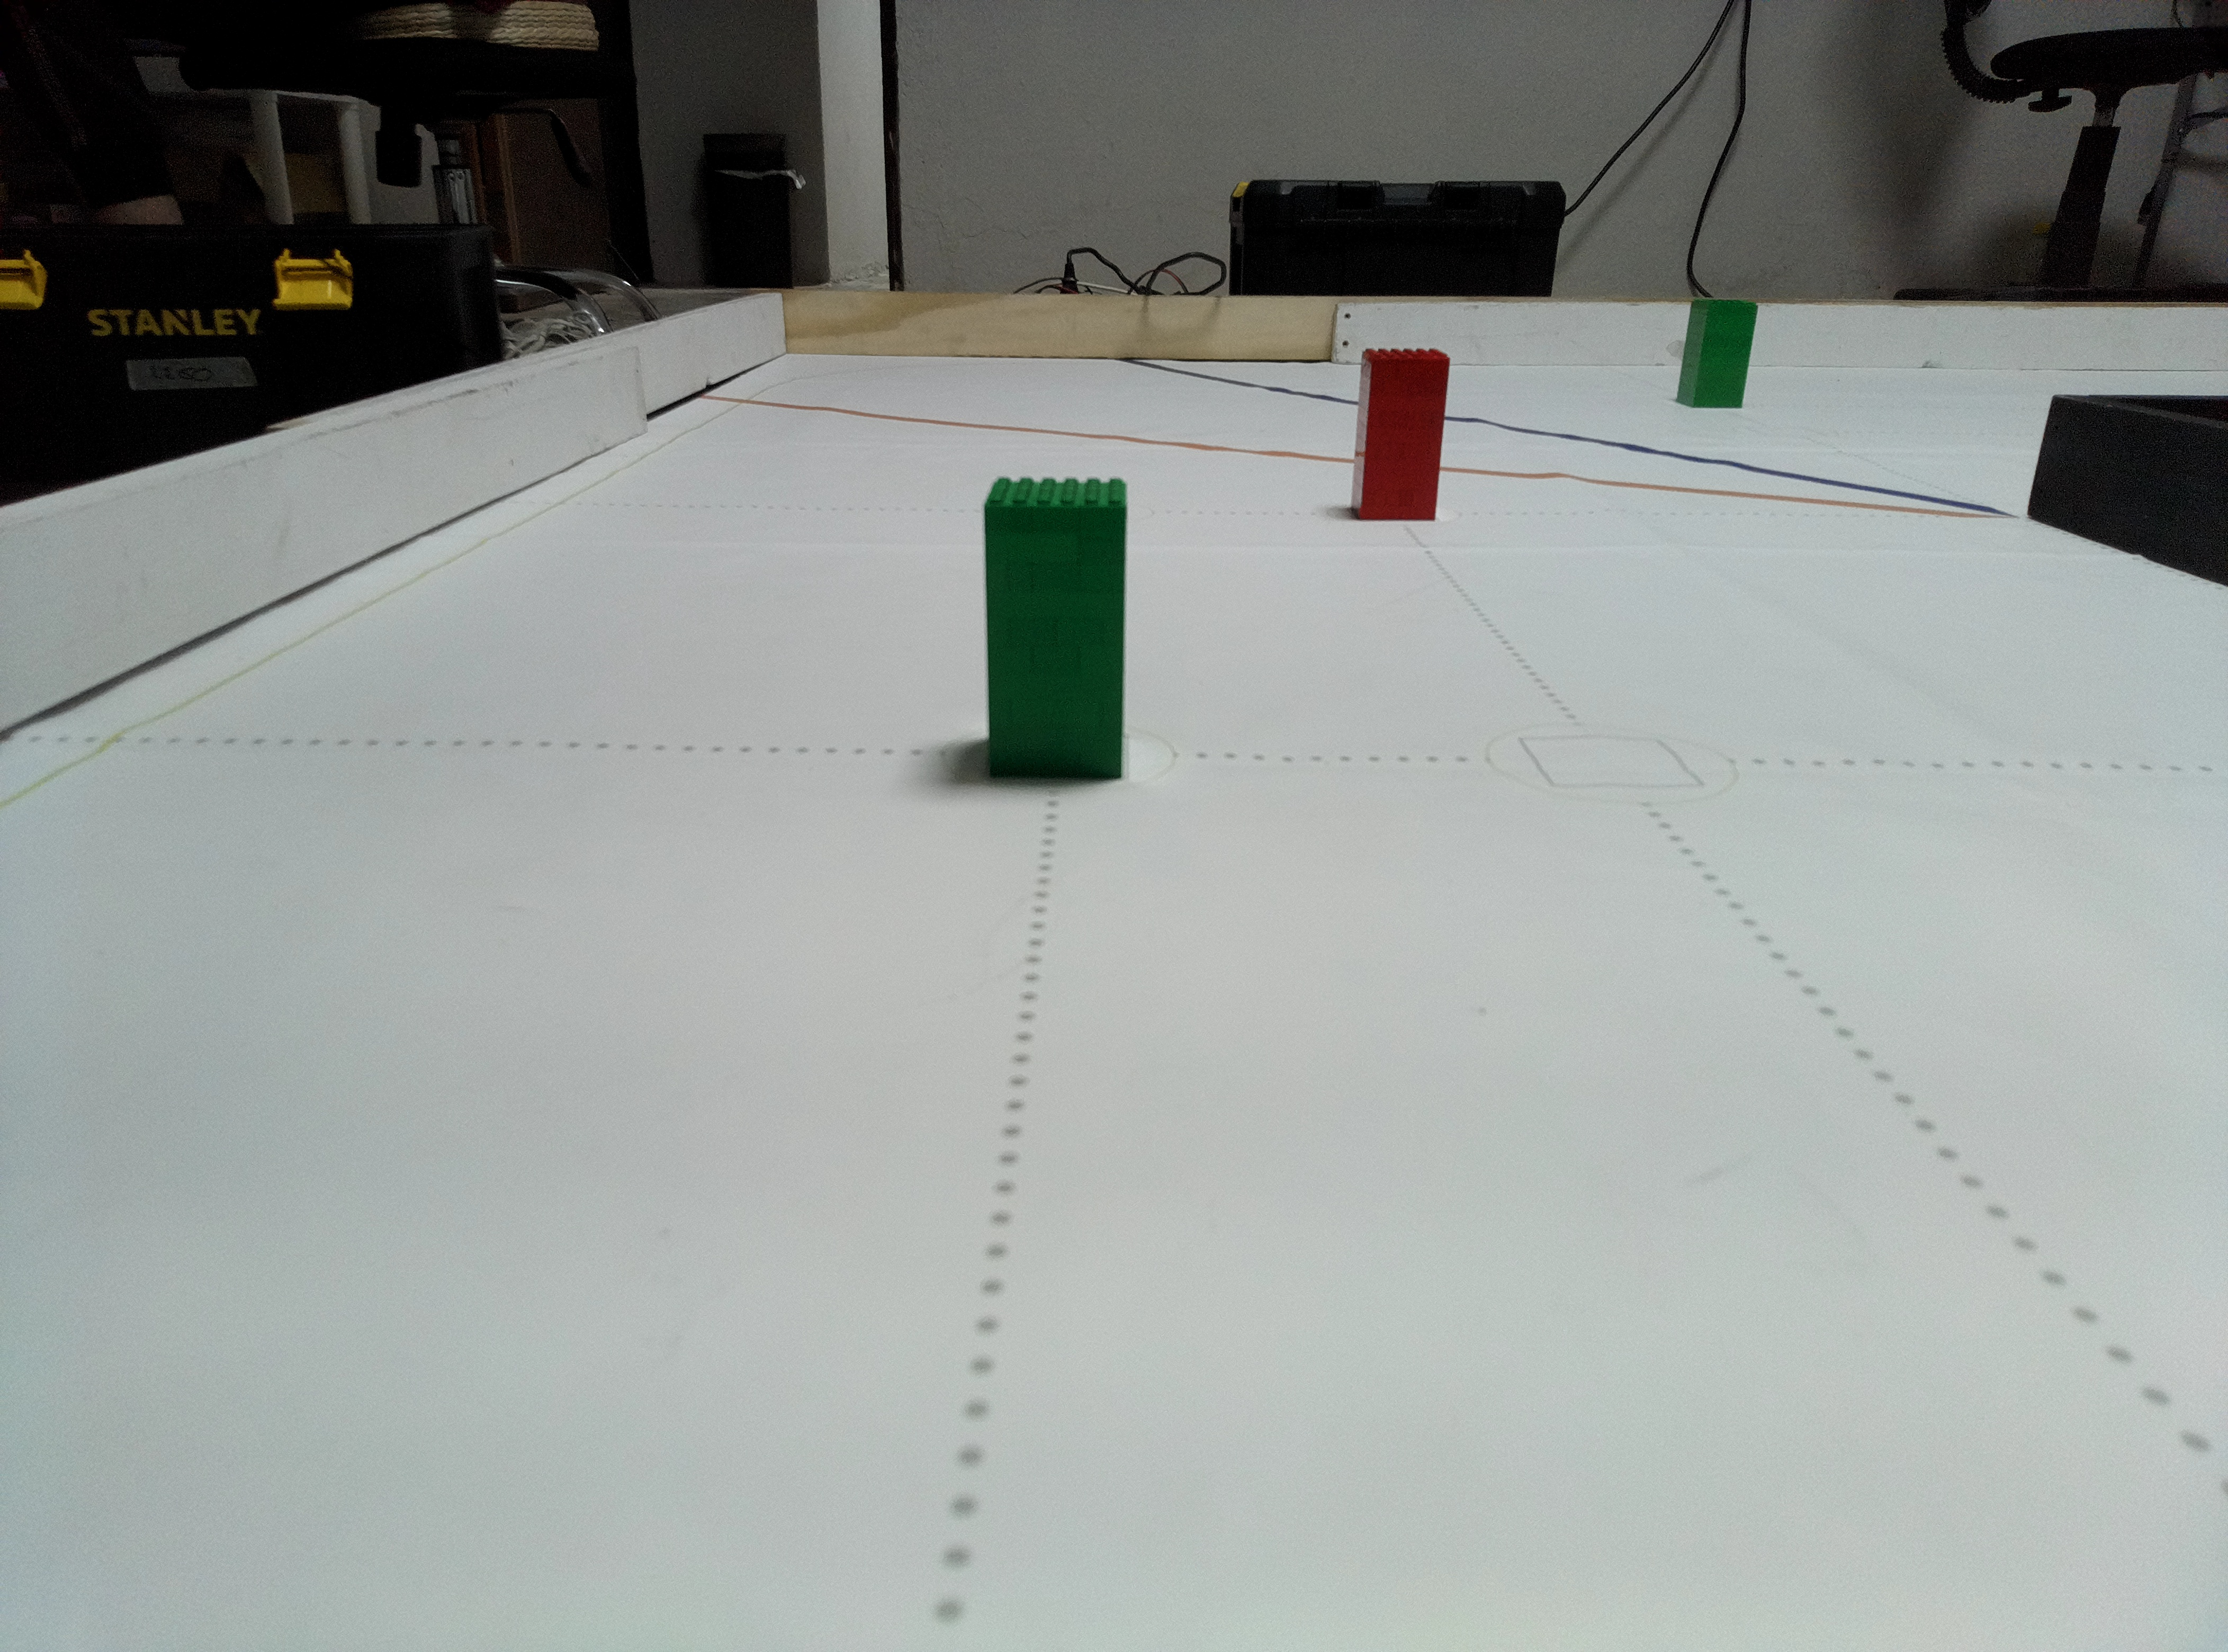greenbox: (979, 474, 1130, 783), (1674, 300, 1759, 410)
redbox: (1353, 345, 1452, 522)
